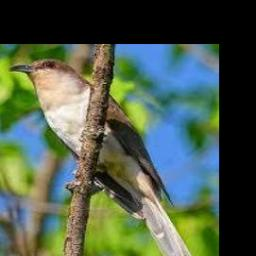Cuckoo: (11, 58, 201, 256)
